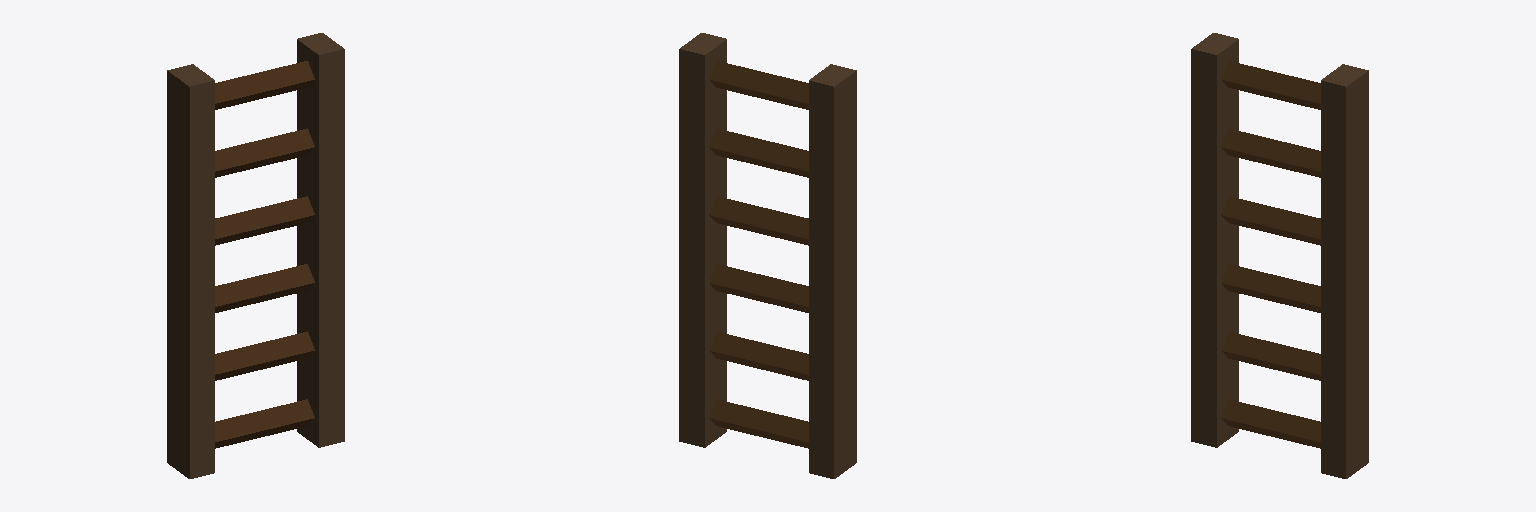
File: ladder.obj
The picture shows the model from 3 angles: view 1: azimuth 30°, elevation 25°; view 2: azimuth 150°, elevation 25°; view 3: azimuth 330°, elevation 25°; orthographic projection.
Bounding box in the file's own units: 96 × 232 × 24.